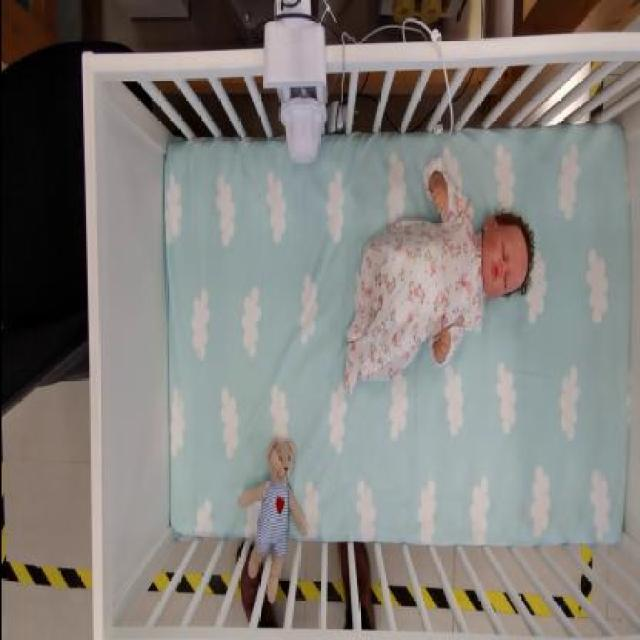baby: (340, 170, 540, 397)
